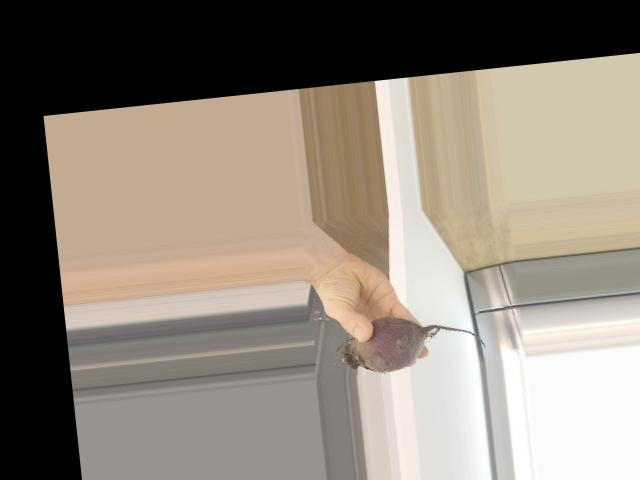beet: (333, 308, 487, 377)
